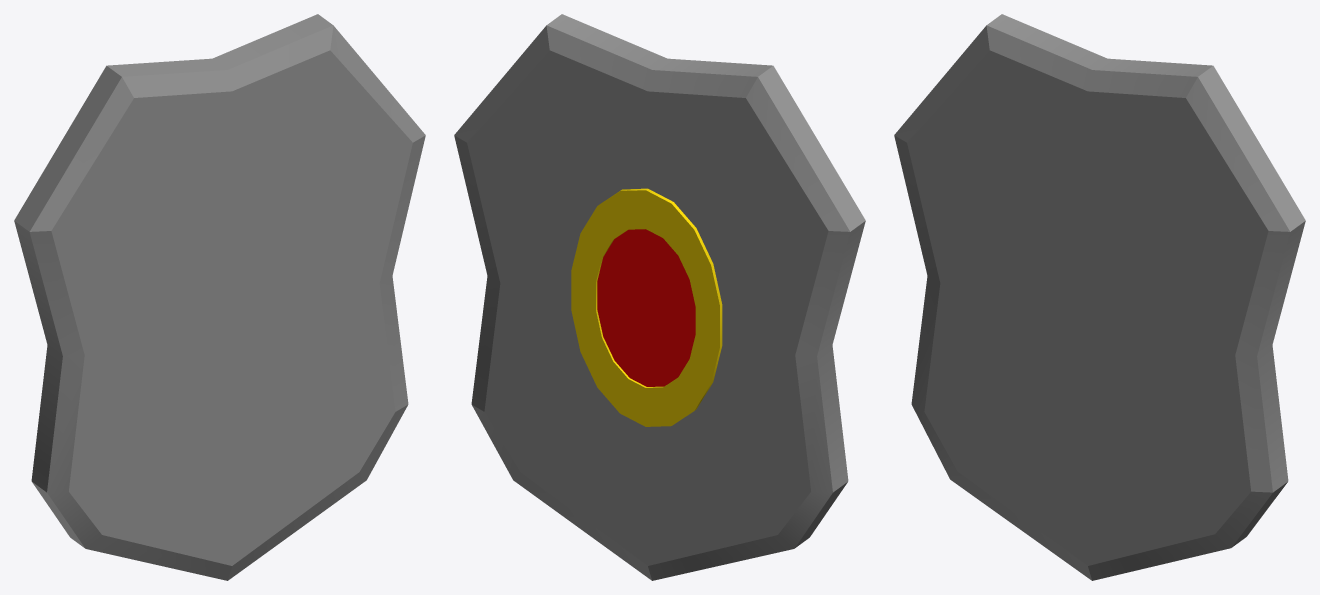
Rendered from ShieldMetal.FBX.
The picture shows the model from 3 angles, left to right: view 1: azimuth 30°, elevation 25°; view 2: azimuth 150°, elevation 25°; view 3: azimuth 330°, elevation 25°; orthographic projection.
Visible parts, largest first — view 1: Box001; view 2: Box001; view 3: Box001.
Part boxes in pixels (bbox=[...]): Box001: bbox=[14, 14, 425, 580]; Box001: bbox=[454, 14, 865, 580]; Box001: bbox=[894, 14, 1305, 580].
Size of the model in its own units: 62.48 by 7.26 by 79.83.
